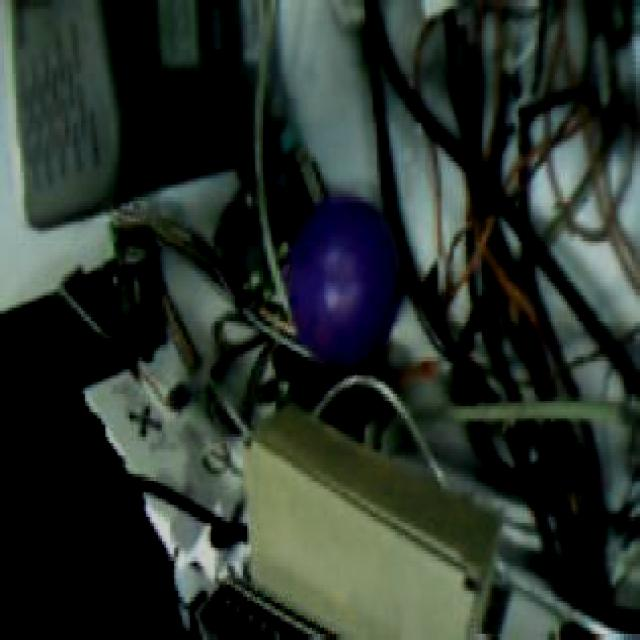BallPurple: (286, 198, 401, 368)
